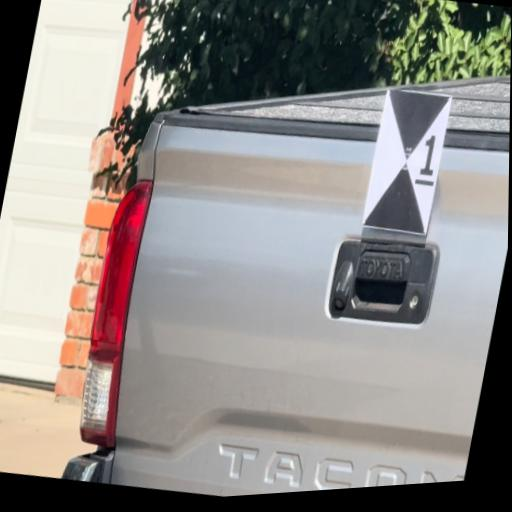target1: (361, 85, 451, 238)
